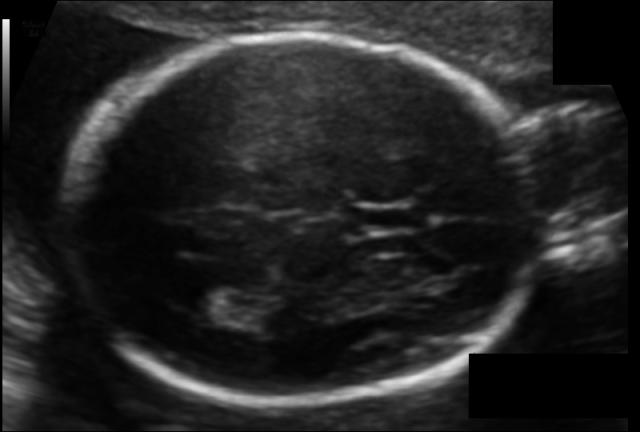CHOROID_PLEXUS: (186, 258, 312, 344)
CSP: (387, 188, 499, 259)
MIDLINE_FALX: (39, 168, 570, 278)
